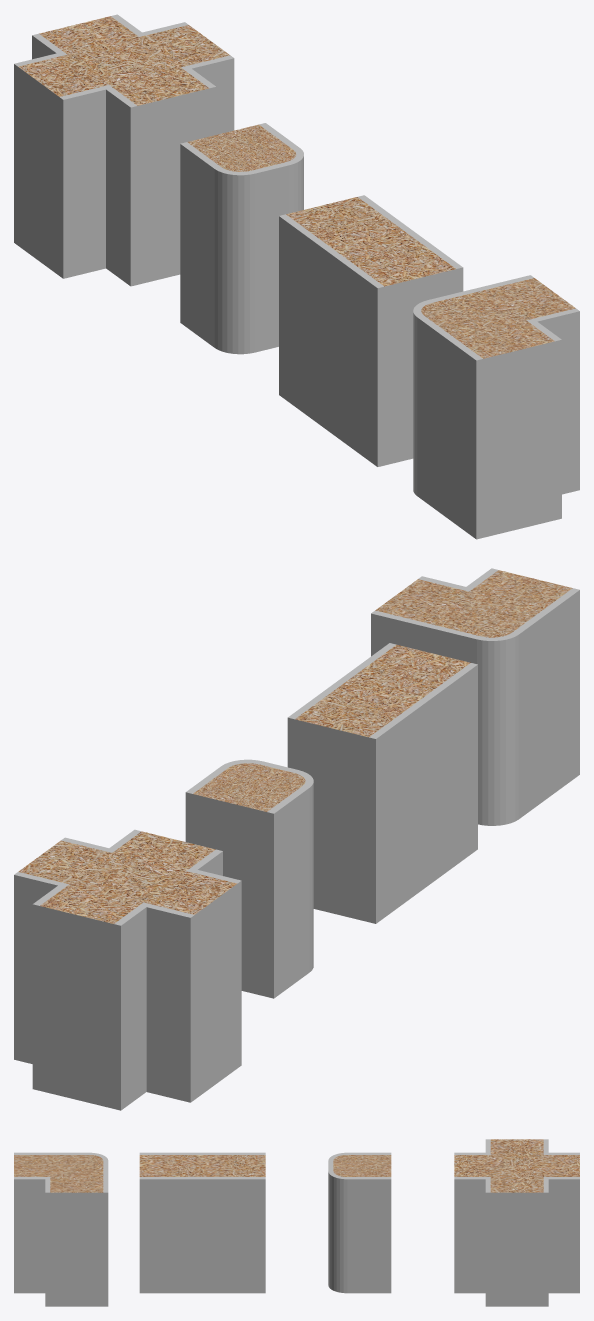
File: wall template.fbx
3 views of the same model, one above another, from view 1: azimuth 30°, elevation 25°; view 2: azimuth 150°, elevation 25°; view 3: azimuth 270°, elevation 25° (orthographic). The views are drawn at different scales.
Parts seen in each view (by area): view 1: Plus, Corner, Wall, End; view 2: Plus, Wall, Corner, End; view 3: Plus, Wall, Corner, End.
Part boxes in pixels (x1=…): Plus: x1=14, y1=14, x2=234, y2=286; Corner: x1=413, y1=275, x2=579, y2=539; Wall: x1=279, y1=195, x2=463, y2=466; End: x1=180, y1=123, x2=303, y2=354; Plus: x1=14, y1=829, x2=241, y2=1110; Wall: x1=287, y1=643, x2=477, y2=923; Corner: x1=371, y1=568, x2=579, y2=825; End: x1=185, y1=759, x2=313, y2=998; Plus: x1=454, y1=1139, x2=579, y2=1306; Wall: x1=139, y1=1152, x2=265, y2=1293; Corner: x1=14, y1=1152, x2=108, y2=1306; End: x1=328, y1=1152, x2=391, y2=1293.
Size of the model in its own units: 200 by 200 by 900.
